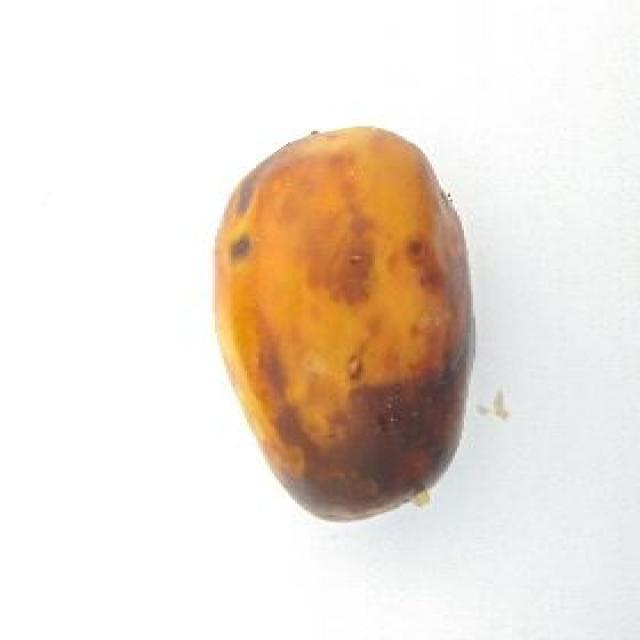Apple: (208, 120, 482, 520)
